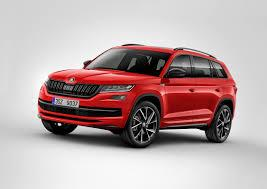skoda: (68, 73, 77, 84)
